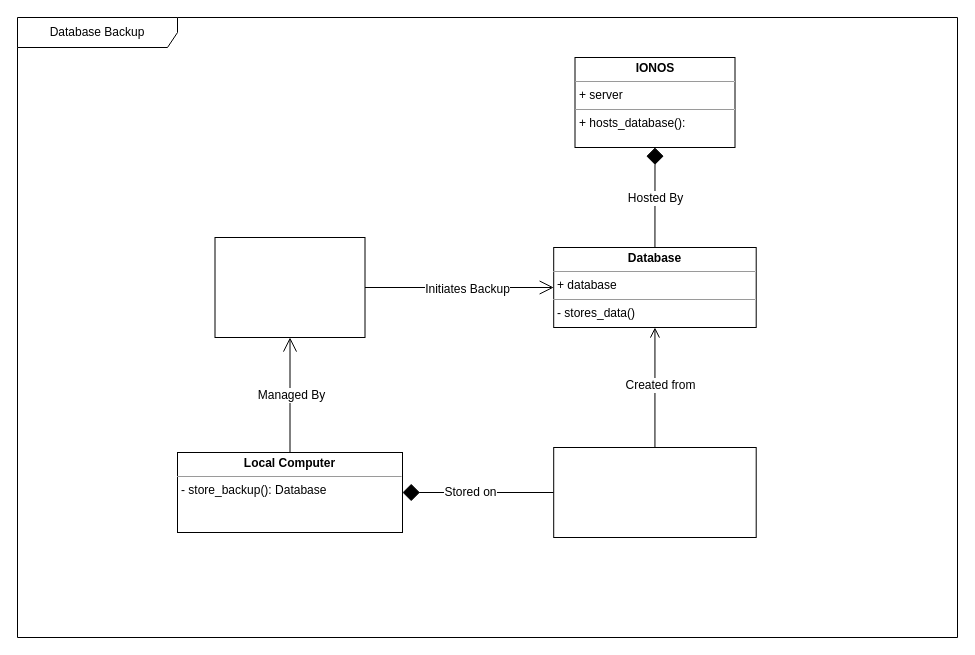
Some shapes in this 975 by 655 pixel diagram are drawn without their labels. Here are the shapes that lost their labels. From the top down, the centre of each, then its label:
At [289,287]: "Data Administrator - perform_backup()".
At [654,492]: "Backup + file_name + data".
